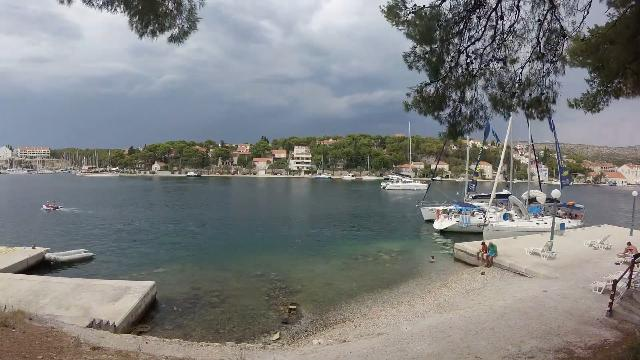Sailboat: (376, 170, 432, 194)
speedboat: (38, 196, 68, 214)
